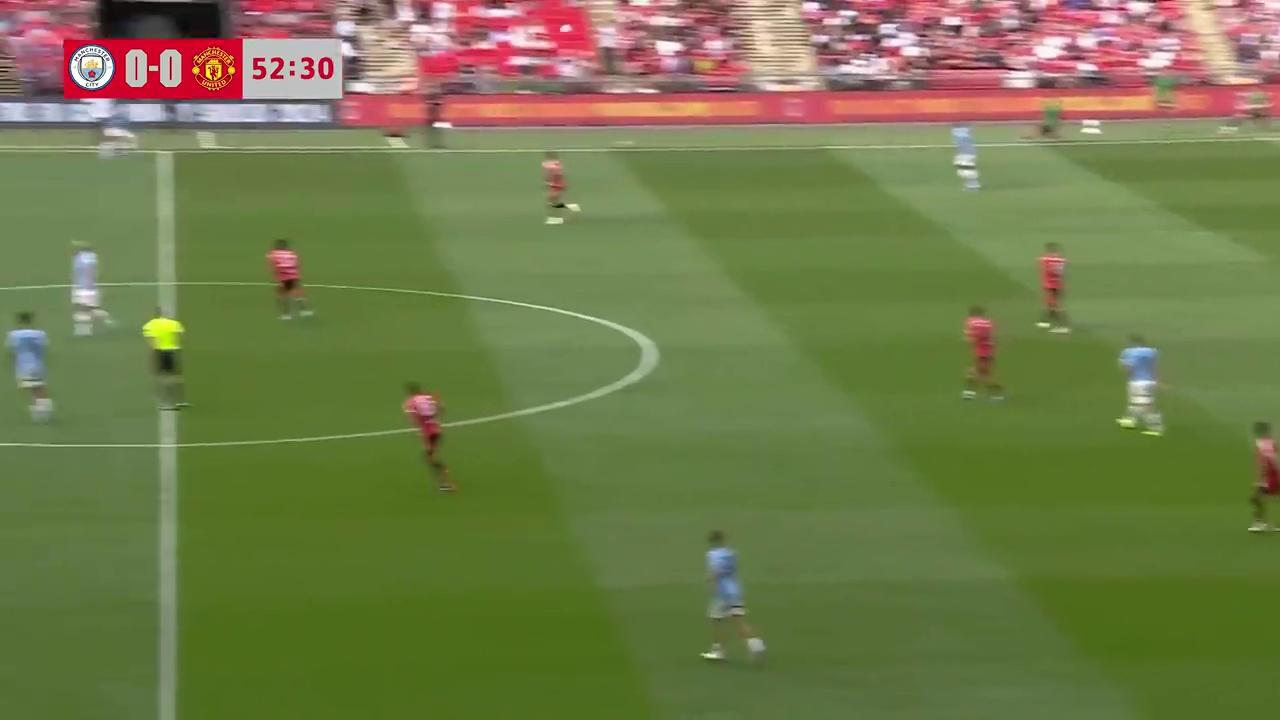player: (701, 528, 765, 663), (402, 385, 460, 492), (7, 312, 55, 418), (1114, 335, 1164, 435), (958, 304, 1005, 403), (69, 243, 111, 332), (265, 240, 313, 317), (1247, 423, 1280, 534), (1034, 243, 1072, 333), (540, 155, 581, 224), (950, 124, 980, 191)
referee: (142, 308, 186, 406)
